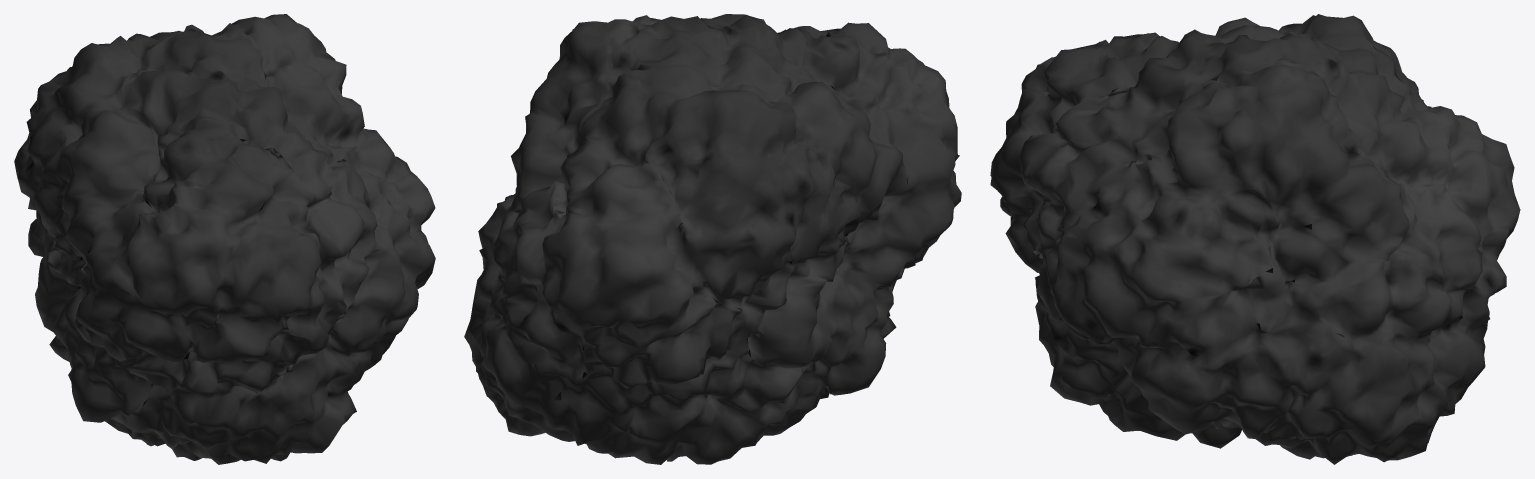
File: lava_4.glb
The picture shows the model from 3 angles, left to right: view 1: azimuth 30°, elevation 25°; view 2: azimuth 150°, elevation 25°; view 3: azimuth 270°, elevation 25°; orthographic projection. The views are drawn at different scales.
Parts seen in each view (by area): view 1: LavaRock_web; view 2: LavaRock_web; view 3: LavaRock_web.
Boxes of the visible parts, box(x1,y1,x2,y2) form: LavaRock_web: box(14, 14, 435, 464); LavaRock_web: box(464, 14, 961, 464); LavaRock_web: box(990, 14, 1520, 464).
Size of the model in its own units: 0.2906 by 0.3004 by 0.3574.
Materials: 1 (1 with a texture image).
